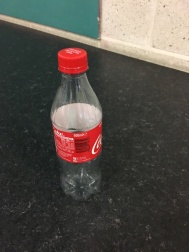bottle_red: (37, 41, 119, 206)
